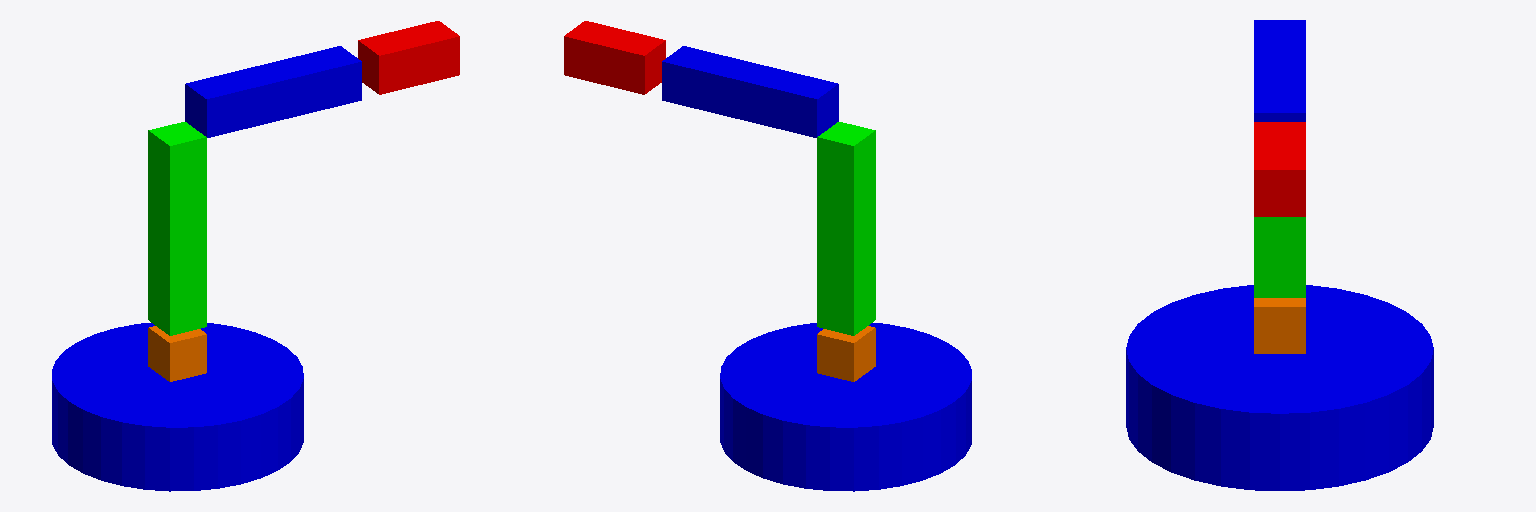
URDF robot description (three_dof_arm):
<?xml version="1.0" ?>
<robot name="three_dof_arm">
    <!-- Material definitions -->
    <material name="blue">
        <color rgba="0 0 1 1" />
    </material>
    <material name="orange">
        <color rgba="1 0.5 0 1" />
    </material>
    <material name="green">
        <color rgba="0 1 0 1" />
    </material>
    <material name="red">
        <color rgba="1 0 0 1" />
    </material>
    <!-- Base link -->
    <link name="base_link">
        <visual>
            <geometry>
                <cylinder radius="0.088" length="0.049" />
            </geometry>
            <material name="blue" />
        </visual>
        <collision>
            <geometry>
                <cylinder radius="0.088" length="0.049" />
            </geometry>
        </collision>
        <inertial>
            <mass value="1" />
            <inertia ixx="0.05" ixy="0" ixz="0" iyy="0.05" iyz="0" izz="0.1" />
            <origin xyz="0 0 0" rpy="0 0 0" />
        </inertial>
    </link>
    <!-- Link 1 -->
    <link name="link1">
        <visual>
            <origin xyz="0 0 0.035" rpy="0 0 0" />
            <geometry>
                <box size="0.03 0.03 0.03" />
            </geometry>
            <material name="orange" />
        </visual>
        <collision>
            <origin xyz="0 0 0.045" rpy="0 0 0" />
            <geometry>
                <box size="0.03 0.03 0.03" />
            </geometry>
        </collision>
        <inertial>
            <origin xyz="0 0 0.035" rpy="0 0 0" />
            <mass value="1" />
            <inertia ixx="0.01" ixy="0" ixz="0" iyy="0.01" iyz="0" izz="0.01" />
        </inertial>
    </link>
    <!-- Link 2 -->
    <link name="link2">
        <visual>
            <origin xyz="0 0 0.0685" rpy="0 0 0" />
            <geometry>
                <box size="0.03 0.03 0.146" />
            </geometry>
            <material name="green" />
        </visual>
        <collision>
            <origin xyz="0 0 0.0685" rpy="0 0 0" />
            <geometry>
                <box size="0.03 0.03 0.146" />
            </geometry>
        </collision>
        <inertial>
            <origin xyz="0 0 0.0685" rpy="0 0 0" />
            <mass value="1" />
            <inertia ixx="0.02" ixy="0" ixz="0" iyy="0.02" iyz="0" izz="0.02" />
        </inertial>
    </link>
    <!-- Link 3 -->
    <link name="link3">
        <visual>
            <origin xyz="0.077 0 0.0095" rpy="0 0 0" />
            <geometry>
                <box size="0.125 0.03 0.03" />
            </geometry>
            <material name="blue" />
        </visual>
        <collision>
            <origin xyz="0.077 0 0.0095" rpy="0 0 0" />
            <geometry>
                <box size="0.125 0.03 0.03" />
            </geometry>
        </collision>
        <inertial>
            <origin xyz="0 0 0.0095" rpy="0 0 0" />
            <mass value="1" />
            <inertia ixx="0.02" ixy="0" ixz="0" iyy="0.02" iyz="0" izz="0.02" />
        </inertial>
    </link>
    <!-- Link 4 -->
    <link name="link4">
        <visual>
            <origin xyz="0.083 0 0.001" rpy="0 0 0" />
            <geometry>
                <box size="0.065 0.03 0.03" />
            </geometry>
            <material name="red" />
        </visual>
        <collision>
            <origin xyz="0.083 0 0.001" rpy="0 0 0" />
            <geometry>
                <box size="0.065 0.03 0.03" />
            </geometry>
        </collision>
        <inertial>
            <origin xyz="0.083 0 0.001" rpy="0 0 0" />
            <mass value="1" />
            <inertia ixx="0.02" ixy="0" ixz="0" iyy="0.02" iyz="0" izz="0.02" />
        </inertial>
    </link>
    <!-- Joint 1 -->
    <joint name="joint1" type="revolute">
        <parent link="base_link" />
        <child link="link1" />
        <origin xyz="0 0 0.008" rpy="0 0 0" />
        <axis xyz="0 0 1" />
        <limit lower="-3.14159" upper="3.14159" effort="10" velocity="1" />
    </joint>
    <!-- Joint 2 -->
    <joint name="joint2" type="revolute">
        <parent link="link1" />
        <child link="link2" />
        <origin xyz="0 0 0.06" rpy="0 0 0" />
        <axis xyz="0 1 0" />
        <limit lower="-1.57" upper="1.57" effort="10" velocity="1" />
    </joint>
    <!-- Joint 3 -->
    <joint name="joint3" type="revolute">
        <parent link="link2" />
        <child link="link3" />
        <origin xyz="0 0 0.146" rpy="0 0 0" />
        <axis xyz="0 1 0" />
        <limit lower="-1.57" upper="0.78539" effort="10" velocity="1" />
    </joint>
    <!-- Joint 4 -->
    <joint name="joint4" type="revolute">
        <parent link="link3" />
        <child link="link4" />
        <origin xyz="0.103 0 0.0095" rpy="0 0 0" />
        <axis xyz="0 1 0" />
        <limit lower="0" upper="0.78539" effort="10" velocity="1" />
    </joint>
    <transmission name="trans_joint1">
        <type>transmission_interface/SimpleTransmission</type>
        <joint name="joint1">
            <hardwareInterface>hardware_interface/EffortJointInterface</hardwareInterface>
        </joint>
        <actuator name="joint1_motor">
            <hardwareInterface>hardware_interface/EffortJointInterface</hardwareInterface>
            <mechanicalReduction>1</mechanicalReduction>
        </actuator>
    </transmission>
    <transmission name="trans_joint2">
        <type>transmission_interface/SimpleTransmission</type>
        <joint name="joint2">
            <hardwareInterface>hardware_interface/EffortJointInterface</hardwareInterface>
        </joint>
        <actuator name="joint2_motor">
            <hardwareInterface>hardware_interface/EffortJointInterface</hardwareInterface>
            <mechanicalReduction>1</mechanicalReduction>
        </actuator>
    </transmission>
    <transmission name="trans_joint3">
        <type>transmission_interface/SimpleTransmission</type>
        <joint name="joint3">
            <hardwareInterface>hardware_interface/EffortJointInterface</hardwareInterface>
        </joint>
        <actuator name="joint3_motor">
            <hardwareInterface>hardware_interface/EffortJointInterface</hardwareInterface>
            <mechanicalReduction>1</mechanicalReduction>
        </actuator>
    </transmission>
    <transmission name="trans_joint4">
        <type>transmission_interface/SimpleTransmission</type>
        <joint name="joint4">
            <hardwareInterface>hardware_interface/EffortJointInterface</hardwareInterface>
        </joint>
        <actuator name="joint4_motor">
            <hardwareInterface>hardware_interface/EffortJointInterface</hardwareInterface>
            <mechanicalReduction>1</mechanicalReduction>
        </actuator>
    </transmission>
    <gazebo>
        <plugin name="gazebo_ros_control" filename="libgazebo_ros_control.so">
            <robotNamespace>/</robotNamespace>
        </plugin>
    </gazebo>
</robot>

--- Facts derived from the render (not from the file) ---
Views: 3 orthographic renders of the robot side by side, from view 1: azimuth 30°, elevation 25°; view 2: azimuth 150°, elevation 25°; view 3: azimuth 270°, elevation 25°.
Model three_dof_arm with 5 links and 4 joints (4 revolute), rooted at base_link, posed all joints at 0.
Links seen in each view (by area): view 1: base_link, link2, link3, link4, link1; view 2: base_link, link2, link3, link4, link1; view 3: base_link, link3, link4, link2, link1.
Boxes of the visible links, x1,y1,x2,y2 form: base_link: (52,323,303,491); link2: (148,122,206,335); link3: (185,46,361,137); link4: (358,21,459,94); link1: (148,326,206,381); base_link: (720,323,971,491); link2: (817,122,875,335); link3: (662,46,838,137); link4: (564,21,665,94); link1: (817,326,875,381); base_link: (1126,285,1433,490); link3: (1254,20,1305,121); link4: (1254,122,1305,216); link2: (1254,217,1305,297); link1: (1254,298,1305,353).
Bounding box of the posed robot: 0.3065 × 0.176 × 0.264 m (x, y, z).
Geometry: primitives only (box / cylinder / sphere), no mesh files.